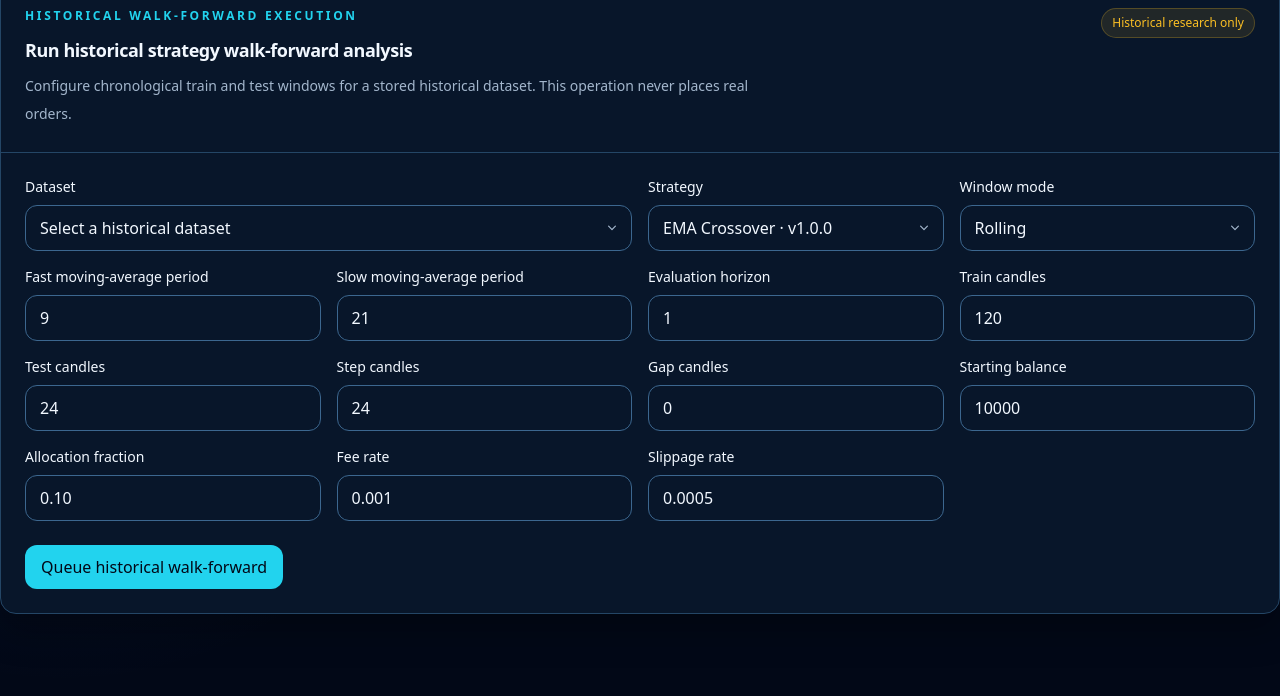
it: WalkForwardRunForm › rejects a step smaller than the test window
Select "BTC historical dataset · BTC/USDT · 1h" in the dropdown labelled "Dataset" at (328, 228), box [25,205,632,251]
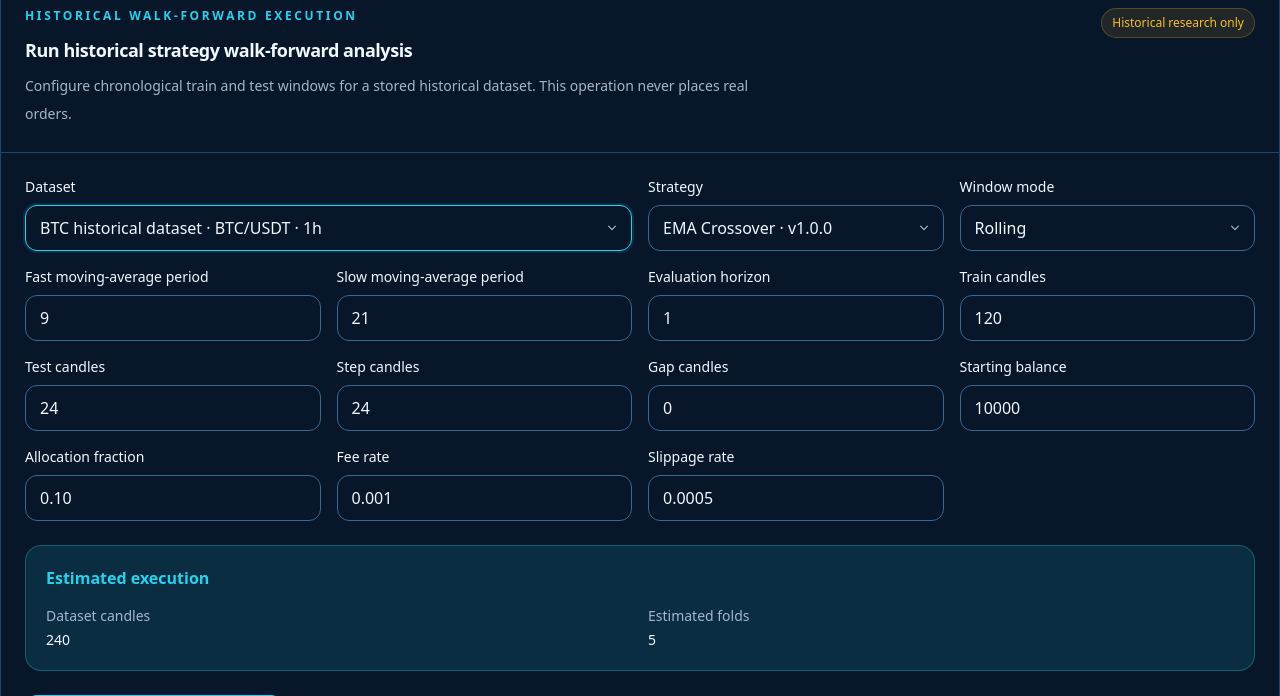
Replace the text in the number field labelled "Step candles" with "12" at (484, 408), box [336,385,632,431]
(page scrolled)
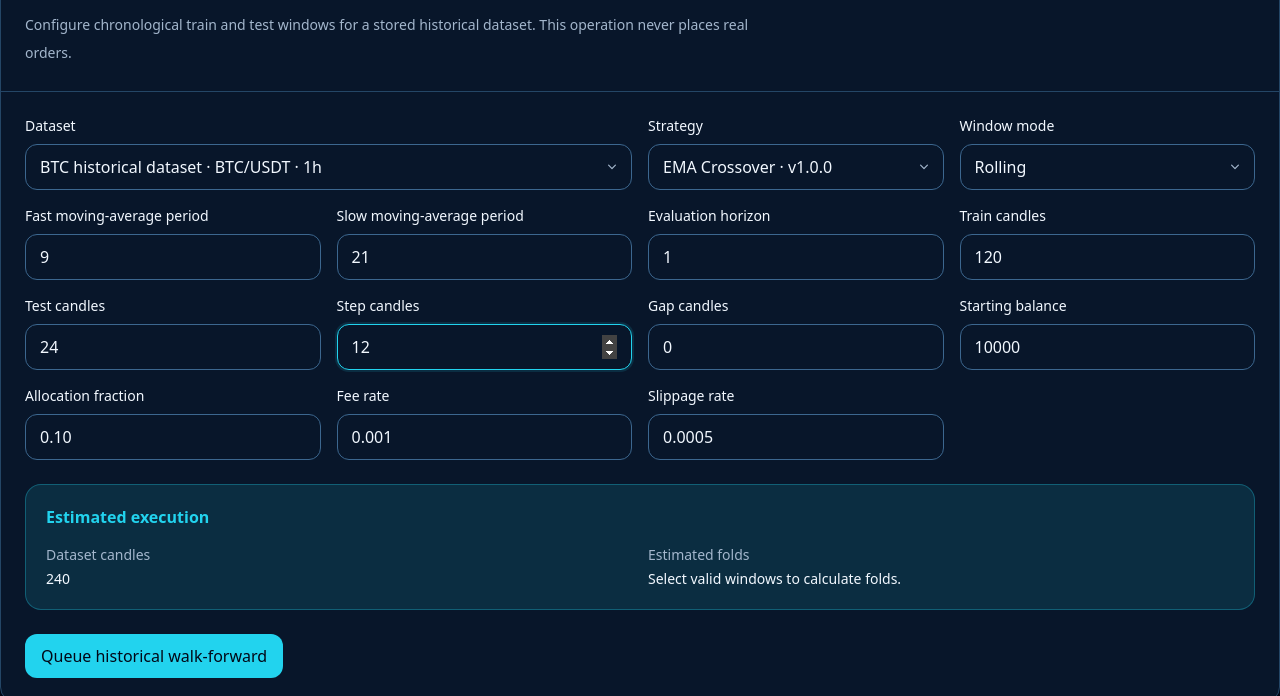
Click the button "Queue historical walk-forward" at (154, 656), box [25,634,283,678]
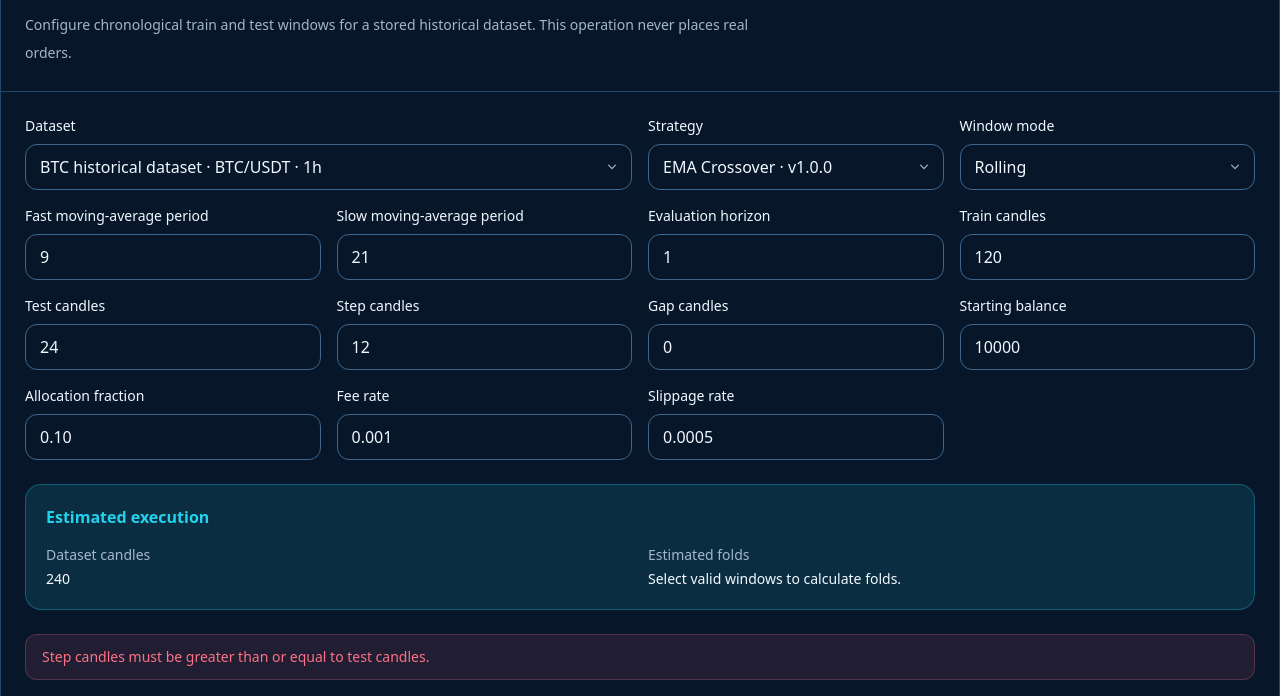
Result: the message reads "Step candles must be greater than or equal to test candles." at [42,647,429,666]
